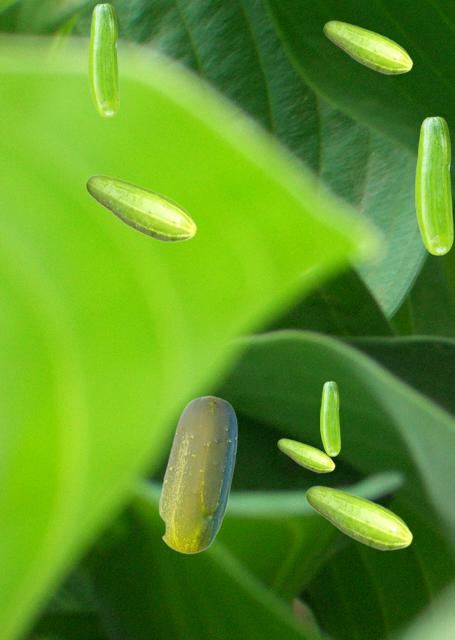cucumber: (158, 395, 236, 553), (85, 174, 196, 242), (305, 485, 412, 550), (415, 116, 452, 254), (323, 20, 412, 74), (88, 3, 118, 116), (277, 438, 334, 472), (320, 381, 339, 455)
